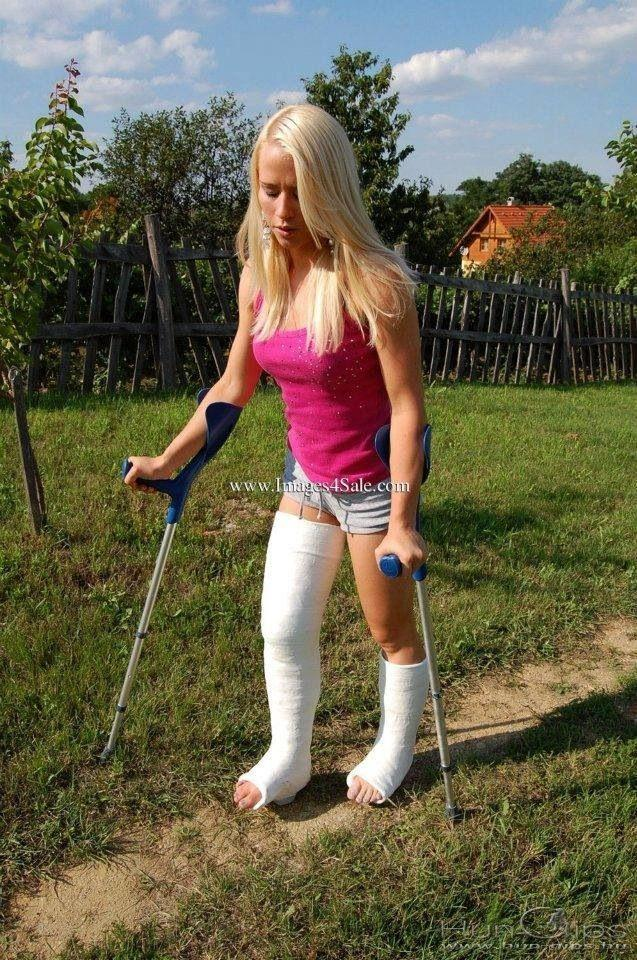crutches: (99, 103, 460, 819)
